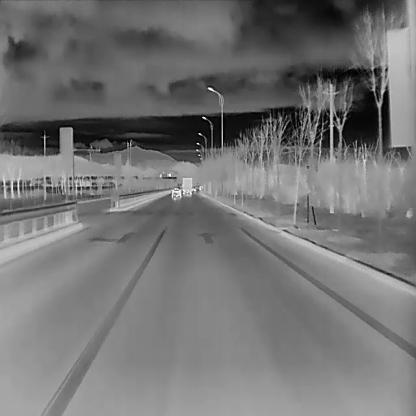car: (181, 177, 192, 194), (171, 186, 182, 198)
